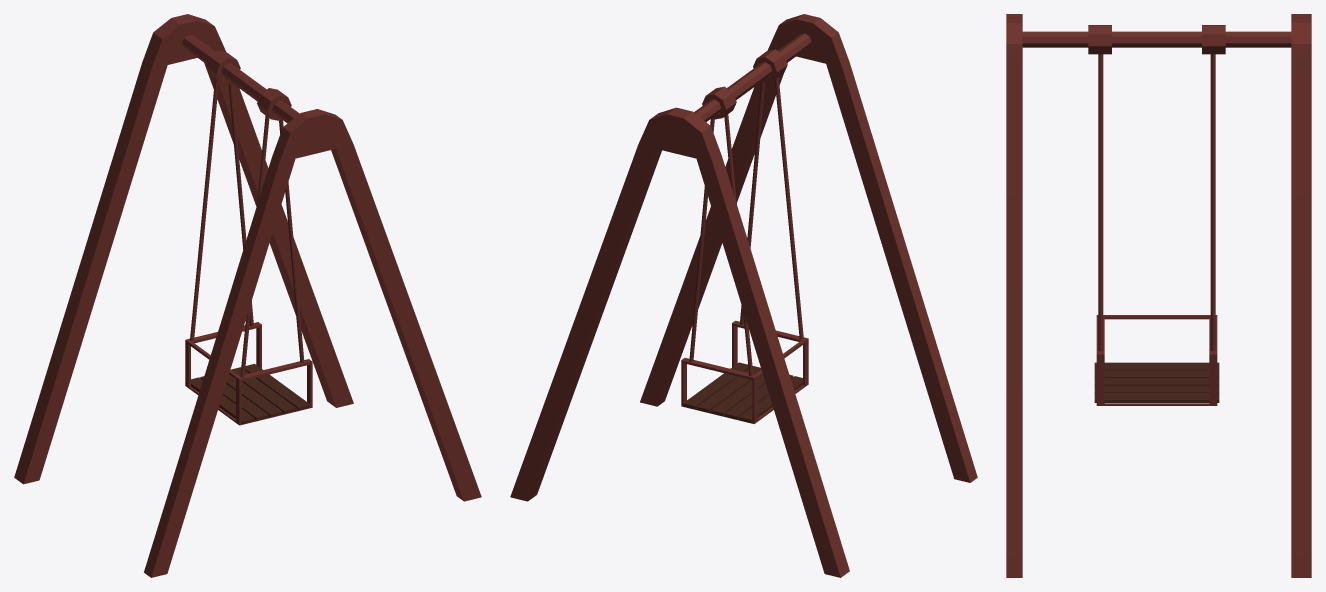
Rendered from huśtawka.fbx.
3 renders of one model, left to right at view 1: azimuth 30°, elevation 25°; view 2: azimuth 150°, elevation 25°; view 3: azimuth 270°, elevation 25°, orthographic. The views are drawn at different scales.
Parts seen in each view (by area): view 1: Rama, huśtawka; view 2: Rama, huśtawka; view 3: Rama, huśtawka.
Part boxes in pixels (bbox=[...]): Rama: bbox=[14, 14, 481, 577]; huśtawka: bbox=[185, 50, 312, 425]; Rama: bbox=[510, 14, 977, 577]; huśtawka: bbox=[681, 49, 808, 423]; Rama: bbox=[1006, 14, 1311, 577]; huśtawka: bbox=[1088, 25, 1225, 405].
Size of the model in its own units: 315 by 383 by 226.
